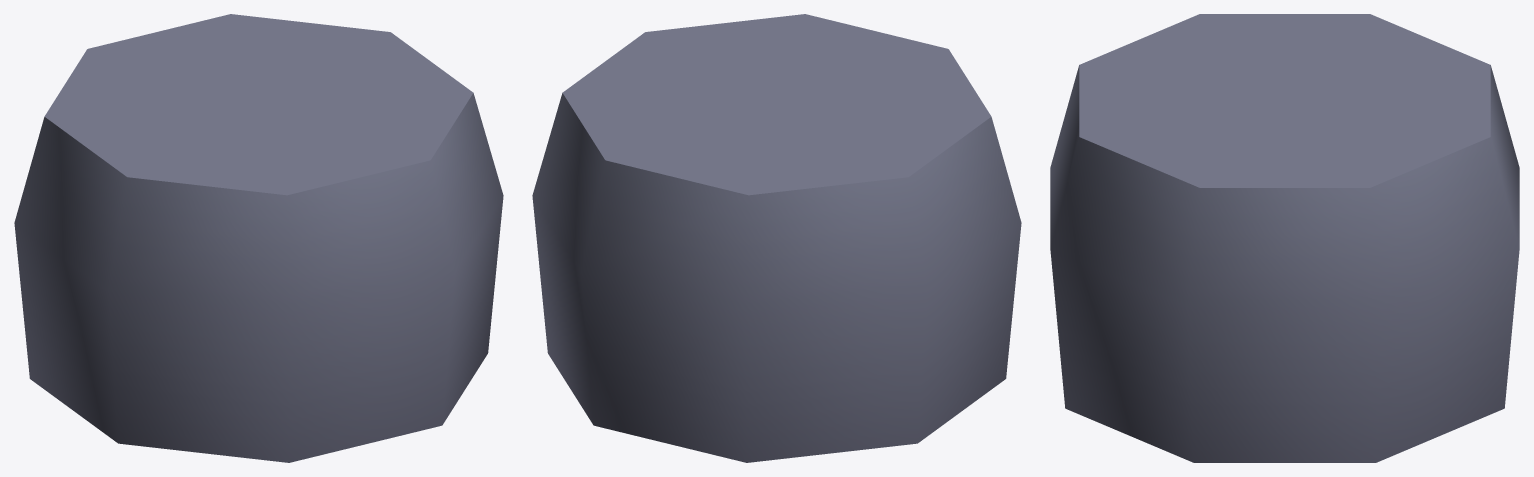
Rendered from pk_tower-base.glb.
3 views of the same model, side by side, from view 1: azimuth 30°, elevation 25°; view 2: azimuth 150°, elevation 25°; view 3: azimuth 270°, elevation 25° (orthographic). The views are drawn at different scales.
Parts seen in each view (by area): view 1: tower-base; view 2: tower-base; view 3: tower-base.
Part boxes in pixels (<box>): tower-base: <box>14,14,503,462</box>; tower-base: <box>532,14,1021,462</box>; tower-base: <box>1050,14,1519,462</box>.
Size of the model in its own units: 3.16 by 2 by 3.16.
Materials: 1 (1 with a texture image).
